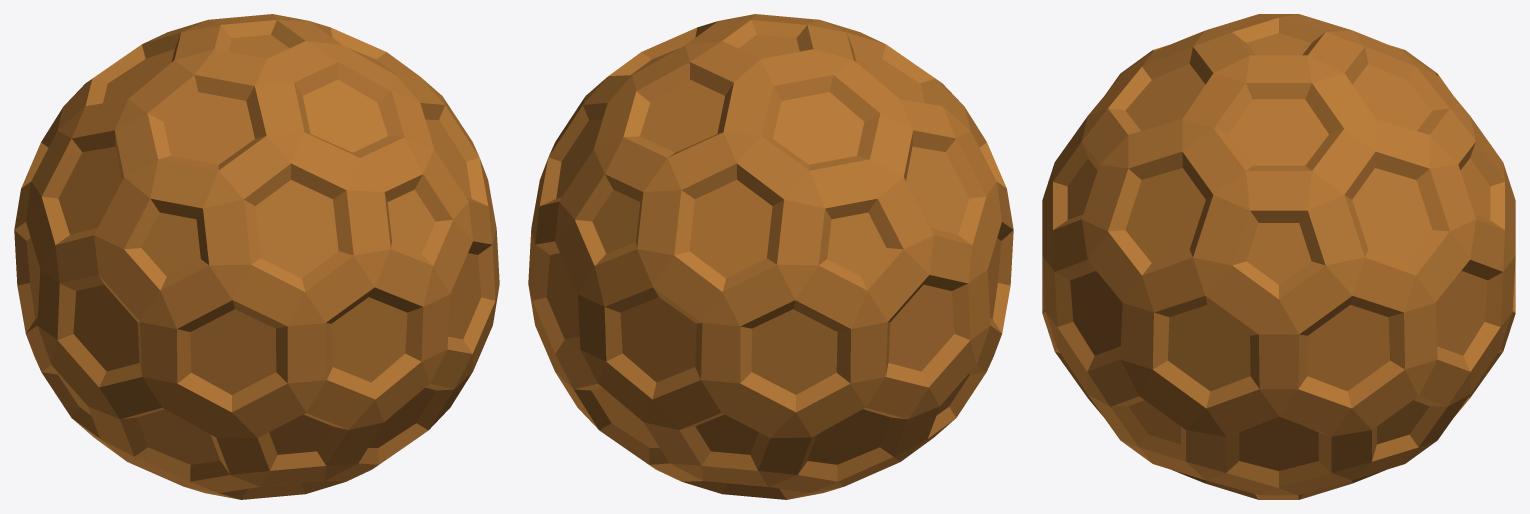
Rendered from sphere everything001.fbx.
The picture shows the model from 3 angles, left to right: view 1: azimuth 30°, elevation 25°; view 2: azimuth 150°, elevation 25°; view 3: azimuth 270°, elevation 25°; orthographic projection.
Visible parts, largest first — view 1: Icosphere; view 2: Icosphere; view 3: Icosphere.
Part boxes in pixels (box(x1,y1,x2,y2)): Icosphere: box(14, 14, 499, 499); Icosphere: box(528, 14, 1013, 499); Icosphere: box(1042, 14, 1515, 499).
Size of the model in its own units: 1.63 by 1.62 by 1.59.
